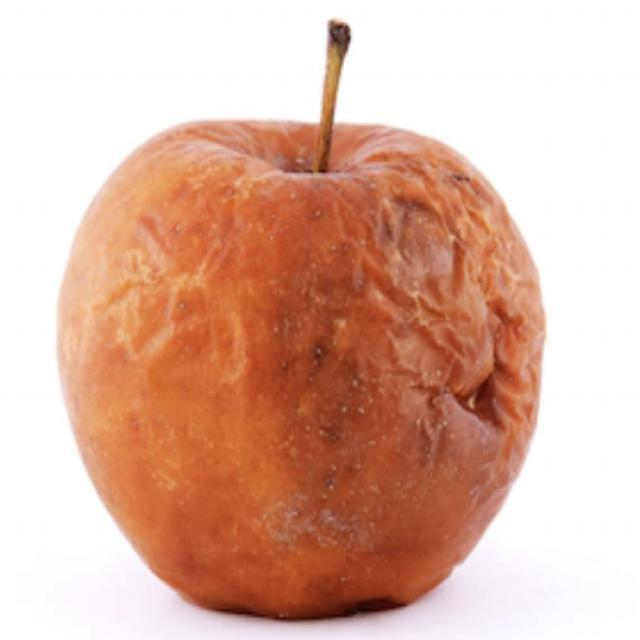Rotten: (53, 115, 548, 622)
